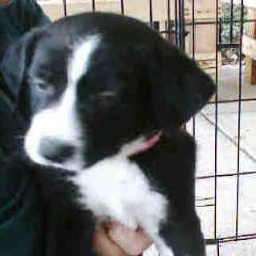dog: (3, 13, 210, 256)
